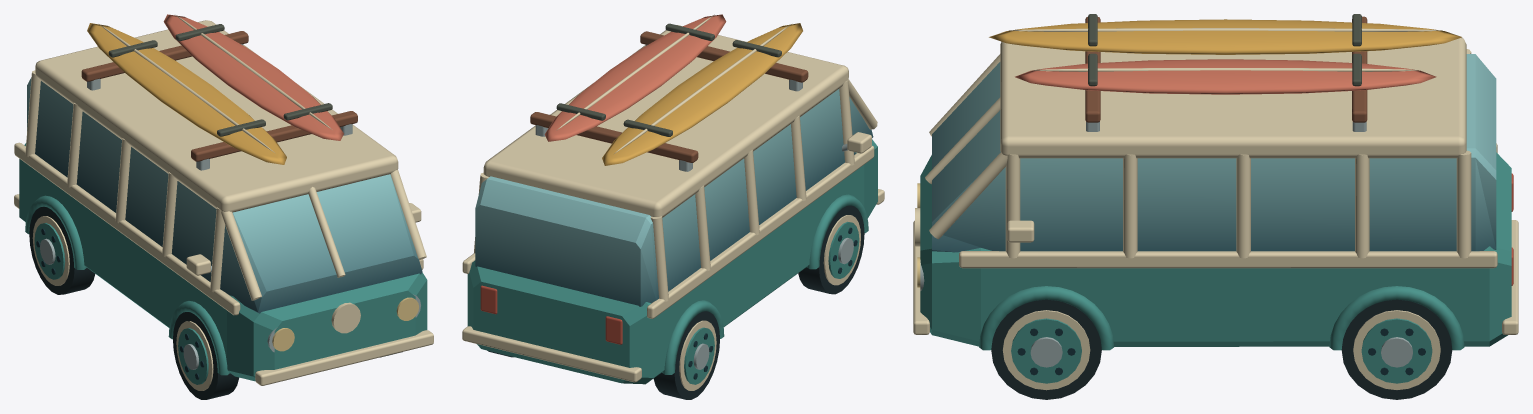
The model's file is surf-camper.glb.
3 views of the same model, side by side, from view 1: azimuth 30°, elevation 25°; view 2: azimuth 150°, elevation 25°; view 3: azimuth 270°, elevation 25° (orthographic). The views are drawn at different scales.
Visible parts, largest first — view 1: body, glazing, wheel-back-right, wheel-front-right; view 2: body, glazing, wheel-front-right, wheel-back-right; view 3: body, glazing, wheel-back-left, wheel-front-left.
Boxes of the visible parts, <box> form: body: <box>14,14,433,385</box>; glazing: <box>27,77,422,313</box>; wheel-back-right: <box>29,206,95,294</box>; wheel-front-right: <box>173,312,238,399</box>; body: <box>462,14,884,384</box>; glazing: <box>475,89,873,306</box>; wheel-front-right: <box>798,205,864,294</box>; wheel-back-right: <box>653,311,719,399</box>; body: <box>913,14,1518,350</box>; glazing: <box>932,54,1496,252</box>; wheel-back-left: <box>1341,299,1452,399</box>; wheel-front-left: <box>991,299,1101,399</box>.
Bounding box in the file's own units: 2.47 × 2.53 × 4.7.
